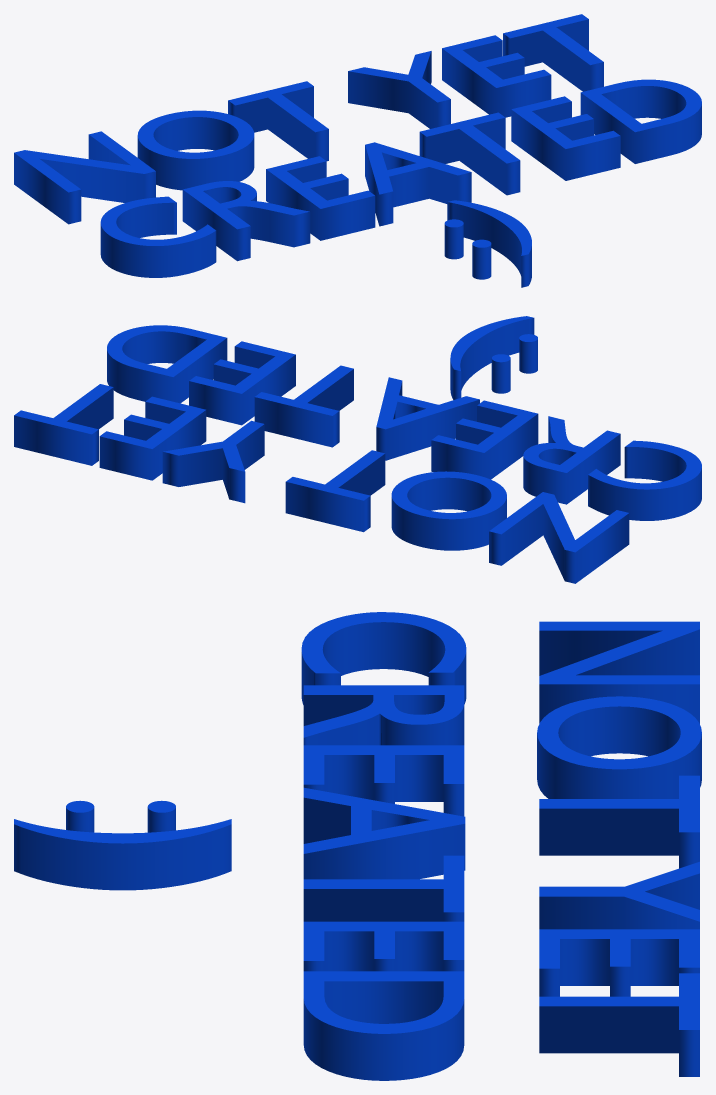
The picture shows the model from 3 angles, top to bottom: view 1: azimuth 30°, elevation 25°; view 2: azimuth 150°, elevation 25°; view 3: azimuth 270°, elevation 25°; orthographic projection. The views are drawn at different scales.
Parts seen in each view (by area): view 1: Text; view 2: Text; view 3: Text.
Boxes of the visible parts, x1=… form: Text: x1=14, y1=14, x2=701, y2=287; Text: x1=14, y1=316, x2=701, y2=583; Text: x1=14, y1=612, x2=701, y2=1080.
Size of the model in its own units: 2.01 by 0.1042 by 1.38.
